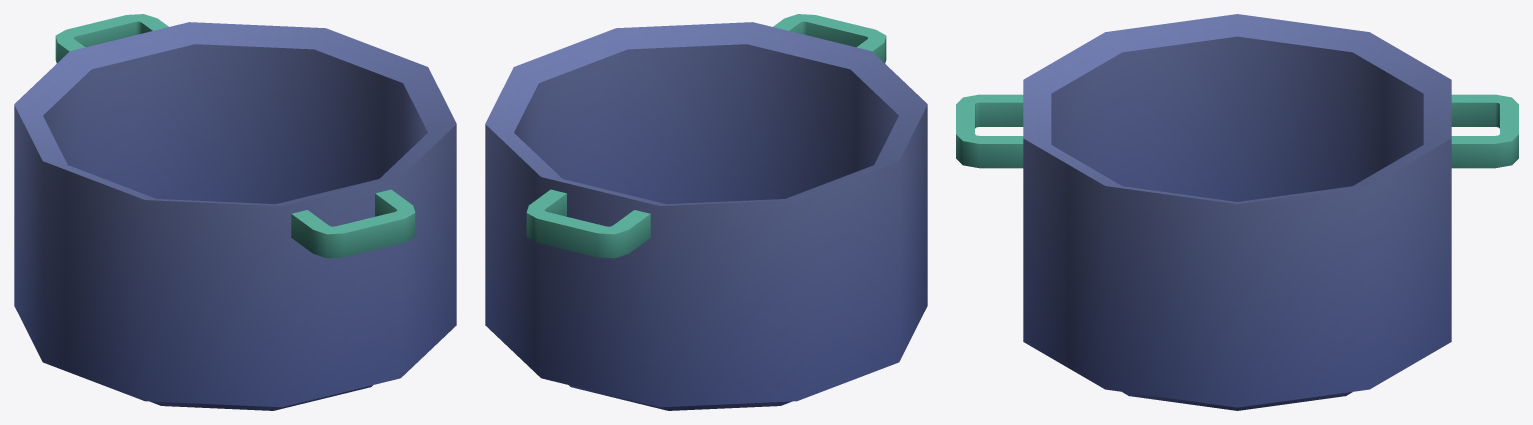
File: pot.glb
3 views of the same model, side by side, from view 1: azimuth 30°, elevation 25°; view 2: azimuth 150°, elevation 25°; view 3: azimuth 270°, elevation 25° (orthographic).
Visible parts, largest first — view 1: pot; view 2: pot; view 3: pot.
Boxes of the visible parts, x1,y1,x2,y2 form: pot: (14,14,456,410); pot: (485,14,927,410); pot: (956,14,1518,410).
Size of the model in its own units: 0.6574 by 0.3608 by 0.8221.
Materials: 1 (1 with a texture image).
